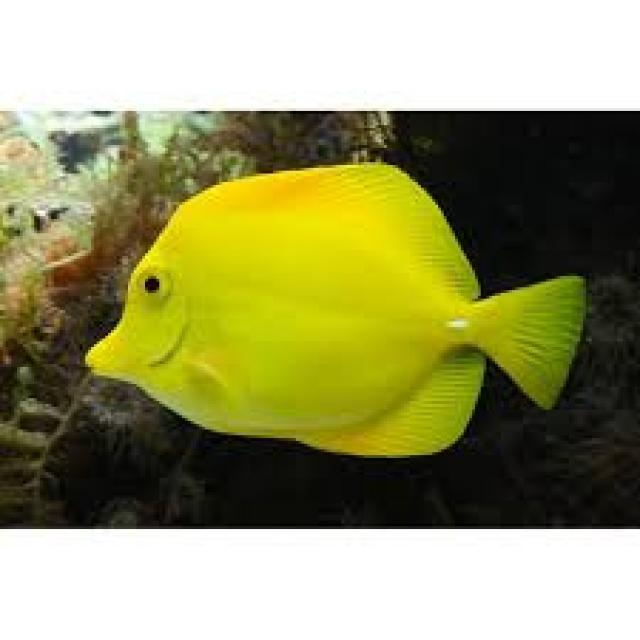YellowTang: (83, 149, 593, 472)
